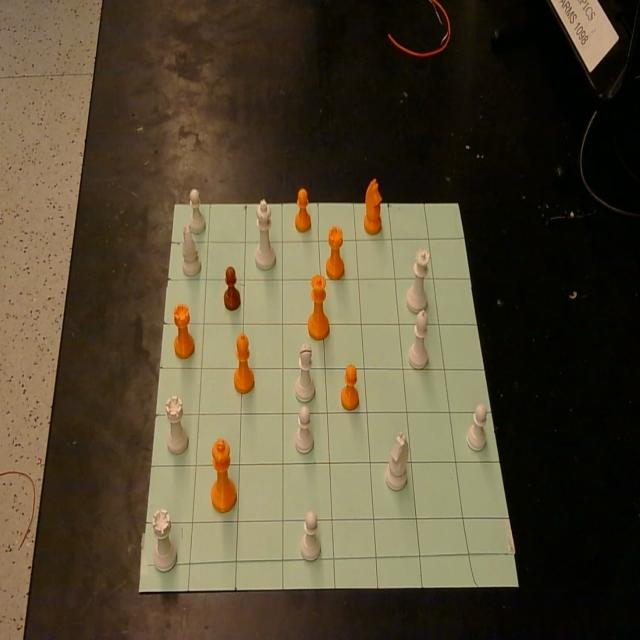orange_bishop: (233, 332, 254, 393)
orange_king: (211, 437, 237, 512)
orange_knight: (364, 178, 382, 235)
orange_pawn: (341, 364, 359, 411), (295, 186, 312, 232), (223, 265, 240, 310)
orange_queen: (308, 274, 330, 340)
orange_rook: (173, 302, 195, 358), (326, 226, 345, 280)
white_bishop: (408, 310, 429, 369), (296, 342, 316, 402)
white_king: (255, 200, 276, 269)
white_knight: (384, 432, 409, 491), (182, 225, 200, 276)
white_pawn: (466, 404, 488, 451), (301, 511, 320, 561), (295, 406, 313, 454), (188, 187, 205, 234)
white_queen: (406, 248, 428, 313)
white_rook: (152, 508, 177, 571), (165, 396, 188, 454)
